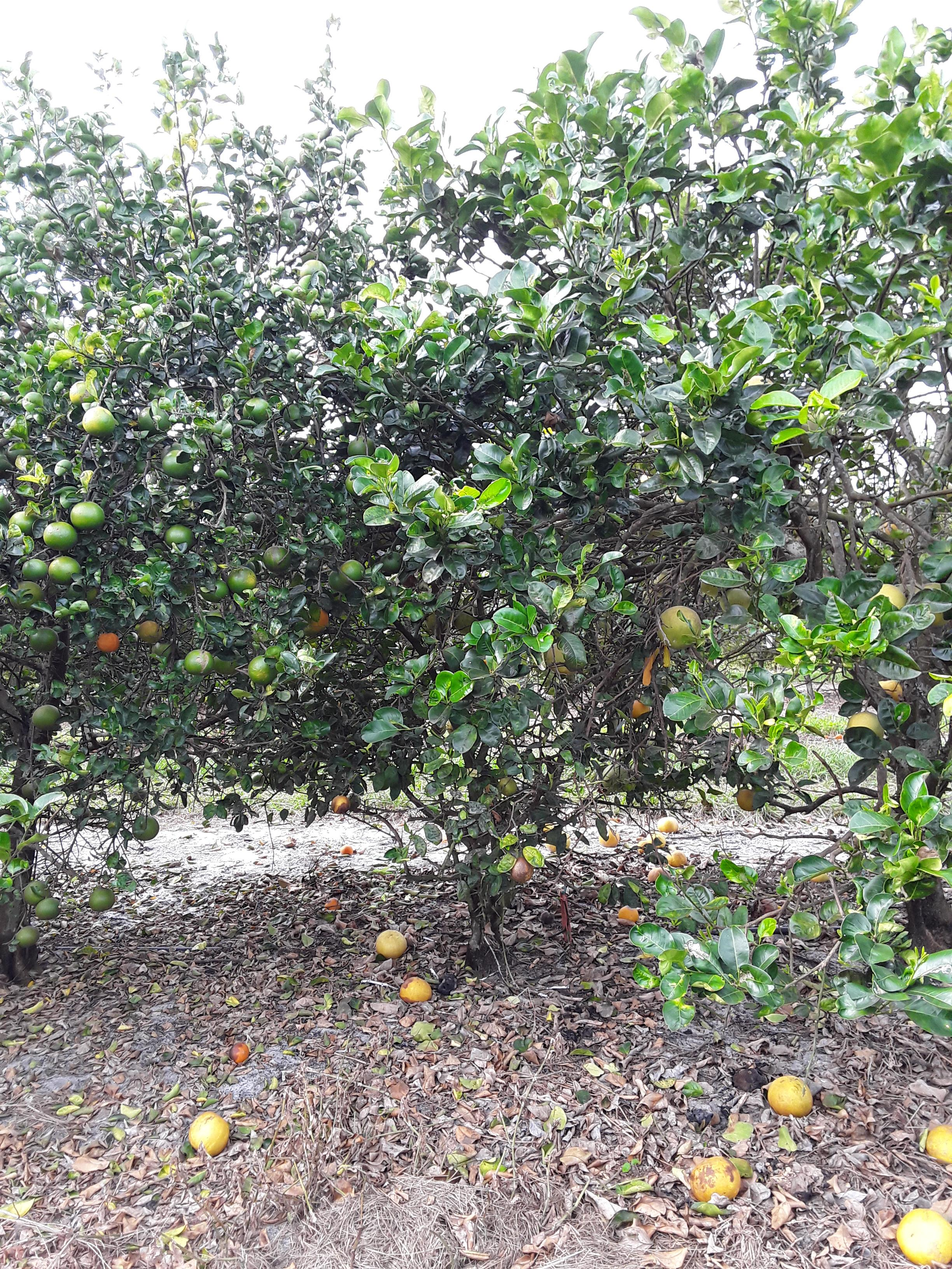fruit_on_ground: (782, 406, 836, 459), (656, 603, 704, 650), (907, 584, 951, 631), (841, 708, 888, 752), (450, 597, 491, 637), (868, 579, 910, 617), (79, 403, 118, 441), (539, 638, 581, 673), (135, 404, 176, 437), (46, 551, 83, 586), (42, 519, 80, 553), (69, 498, 107, 532), (597, 761, 634, 794), (11, 578, 46, 610), (160, 448, 195, 480), (67, 377, 100, 409), (182, 645, 215, 677), (694, 564, 725, 598), (873, 514, 908, 544), (129, 811, 161, 843), (261, 542, 294, 573), (280, 401, 314, 431), (734, 782, 766, 813), (246, 654, 278, 685), (873, 674, 906, 704), (420, 604, 452, 634), (211, 647, 241, 677), (301, 605, 331, 635), (723, 583, 754, 612), (30, 703, 61, 732), (163, 522, 195, 550), (507, 856, 536, 886), (241, 396, 271, 425), (88, 883, 118, 912), (7, 508, 36, 537), (227, 565, 257, 593), (232, 340, 263, 367), (298, 257, 329, 284), (200, 575, 229, 603), (135, 617, 165, 644), (28, 627, 59, 653), (22, 878, 51, 905), (20, 556, 49, 582), (347, 435, 376, 461), (94, 629, 122, 655), (14, 923, 41, 949), (34, 895, 61, 921), (495, 772, 520, 798), (378, 551, 404, 576), (340, 557, 365, 582), (628, 696, 654, 720), (327, 568, 351, 592), (329, 792, 353, 815), (125, 784, 150, 806), (249, 770, 267, 788)
fruit_on_tree: (893, 1203, 952, 1267), (687, 1156, 742, 1205), (765, 1072, 816, 1120), (186, 1109, 233, 1158), (922, 1119, 952, 1167), (373, 927, 409, 960), (730, 1064, 766, 1094), (398, 975, 433, 1004), (542, 827, 573, 856), (228, 1038, 252, 1065), (436, 972, 460, 995), (597, 827, 620, 850), (616, 904, 641, 925), (808, 866, 833, 885), (656, 815, 680, 834), (666, 848, 689, 867), (322, 896, 343, 913), (646, 866, 666, 883), (635, 839, 654, 856), (650, 833, 669, 848), (340, 843, 355, 855)
